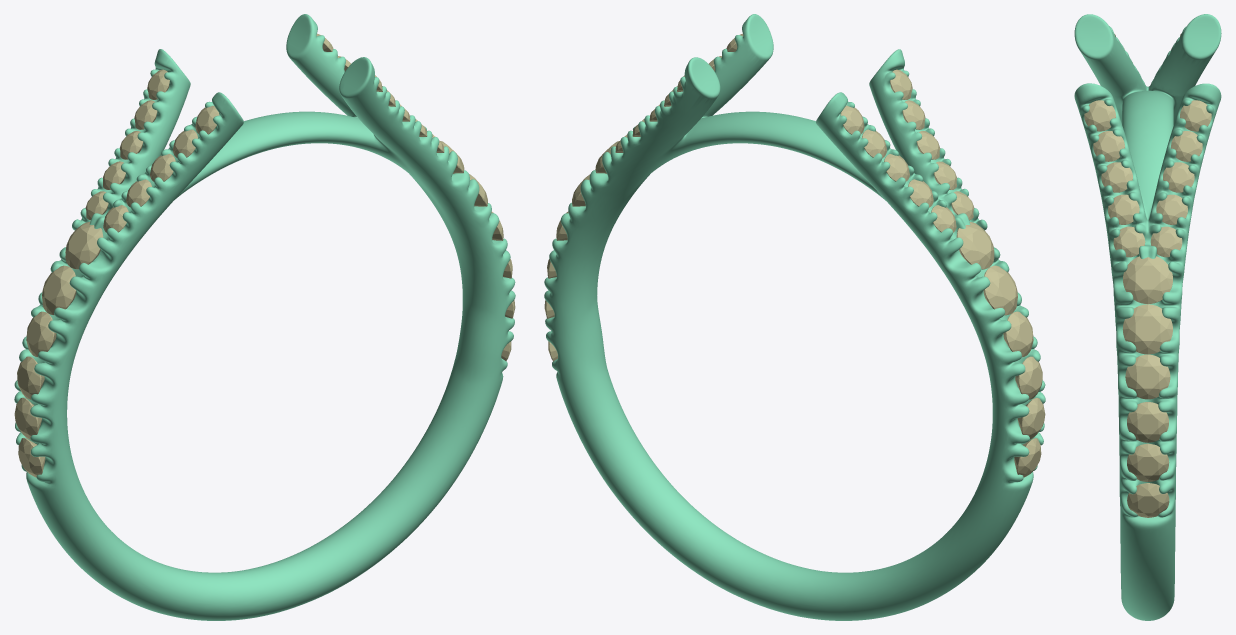
3 views of the same model, side by side, from view 1: azimuth 30°, elevation 25°; view 2: azimuth 150°, elevation 25°; view 3: azimuth 270°, elevation 25° (orthographic). The views are drawn at different scales.
Parts seen in each view (by area): view 1: Metal02, Diamond_Gem.031, Diamond_Gem.025, Diamond_Gem.024, Diamond_Gem.023, Diamond_Gem.022; view 2: Metal02, Diamond_Gem.031, Diamond_Gem.025, Diamond_Gem.024, Diamond_Gem.023, Diamond_Gem.022; view 3: Metal02, Diamond_Gem.028, Diamond_Gem, Diamond_Gem.001, Diamond_Gem.002, Diamond_Gem.003, Diamond_Gem.004, Diamond_Gem.005, Diamond_Gem.012, Diamond_Gem.007, Diamond_Gem.006, Diamond_Gem.011 (+5 smaller).
Boxes of the visible parts, x1=… form: Metal02: x1=14, y1=14, x2=515, y2=620; Diamond_Gem.031: x1=65, y1=222, x2=103, y2=269; Diamond_Gem.025: x1=42, y1=265, x2=76, y2=315; Diamond_Gem.024: x1=26, y1=311, x2=56, y2=357; Diamond_Gem.023: x1=17, y1=356, x2=44, y2=399; Diamond_Gem.022: x1=14, y1=397, x2=41, y2=439; Metal02: x1=544, y1=14, x2=1045, y2=620; Diamond_Gem.031: x1=956, y1=222, x2=994, y2=269; Diamond_Gem.025: x1=983, y1=265, x2=1017, y2=315; Diamond_Gem.024: x1=1003, y1=311, x2=1033, y2=357; Diamond_Gem.023: x1=1015, y1=356, x2=1042, y2=399; Diamond_Gem.022: x1=1017, y1=397, x2=1045, y2=439; Metal02: x1=1074, y1=14, x2=1221, y2=620; Diamond_Gem.028: x1=1123, y1=256, x2=1172, y2=303; Diamond_Gem: x1=1122, y1=304, x2=1172, y2=354; Diamond_Gem.001: x1=1125, y1=354, x2=1170, y2=399; Diamond_Gem.002: x1=1127, y1=402, x2=1168, y2=442; Diamond_Gem.003: x1=1127, y1=443, x2=1169, y2=481; Diamond_Gem.004: x1=1127, y1=483, x2=1169, y2=517; Diamond_Gem.005: x1=1180, y1=100, x2=1211, y2=131; Diamond_Gem.012: x1=1084, y1=100, x2=1115, y2=131; Diamond_Gem.007: x1=1163, y1=162, x2=1194, y2=192; Diamond_Gem.006: x1=1171, y1=131, x2=1202, y2=161; Diamond_Gem.011: x1=1093, y1=131, x2=1124, y2=161.
Bounding box in the file's own units: 20.95 × 22.82 × 5.56.
